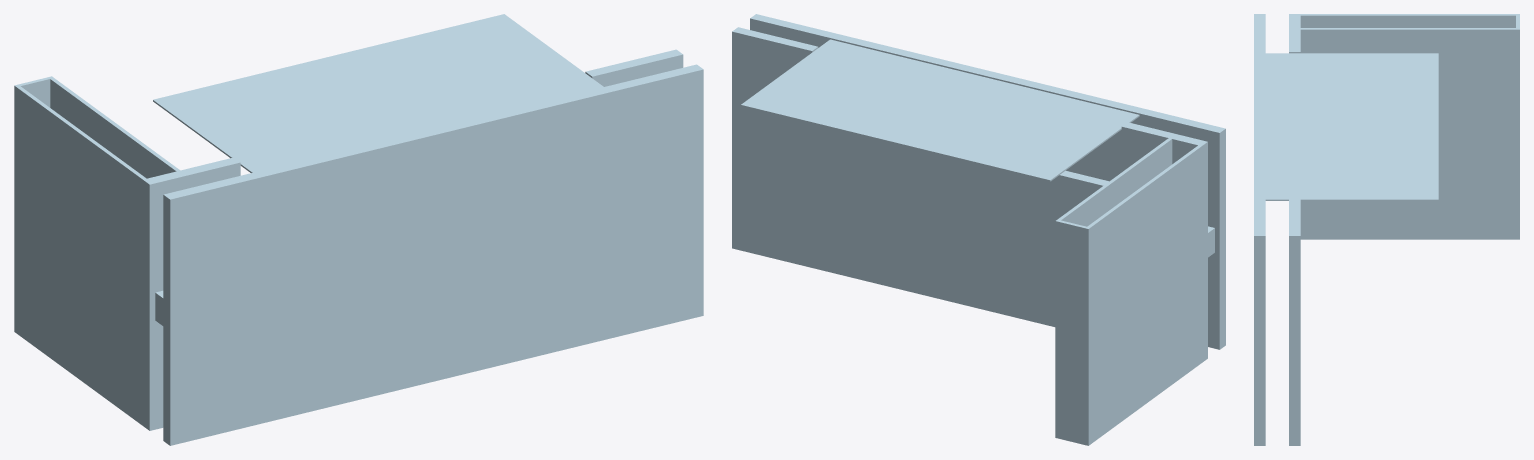
The model's file is Part Studio 1 - Part 1.gltf.
The picture shows the model from 3 angles, left to right: view 1: azimuth 30°, elevation 25°; view 2: azimuth 150°, elevation 25°; view 3: azimuth 270°, elevation 25°; orthographic projection. The views are drawn at different scales.
Parts seen in each view (by area): view 1: Part 1; view 2: Part 1; view 3: Part 1.
Boxes of the visible parts, x1,y1,x2,y2 form: Part 1: [14, 14, 703, 445]; Part 1: [732, 14, 1225, 445]; Part 1: [1254, 14, 1519, 445].
Size of the model in its own units: 1.7 by 0.75 by 0.8607.
